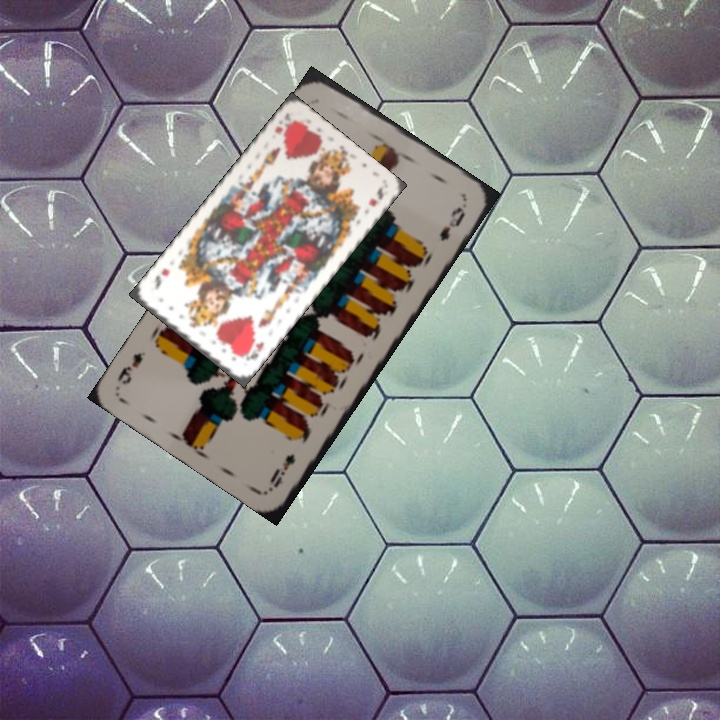E9: (265, 449, 298, 491)
HK: (270, 109, 298, 138), (238, 335, 267, 363)
